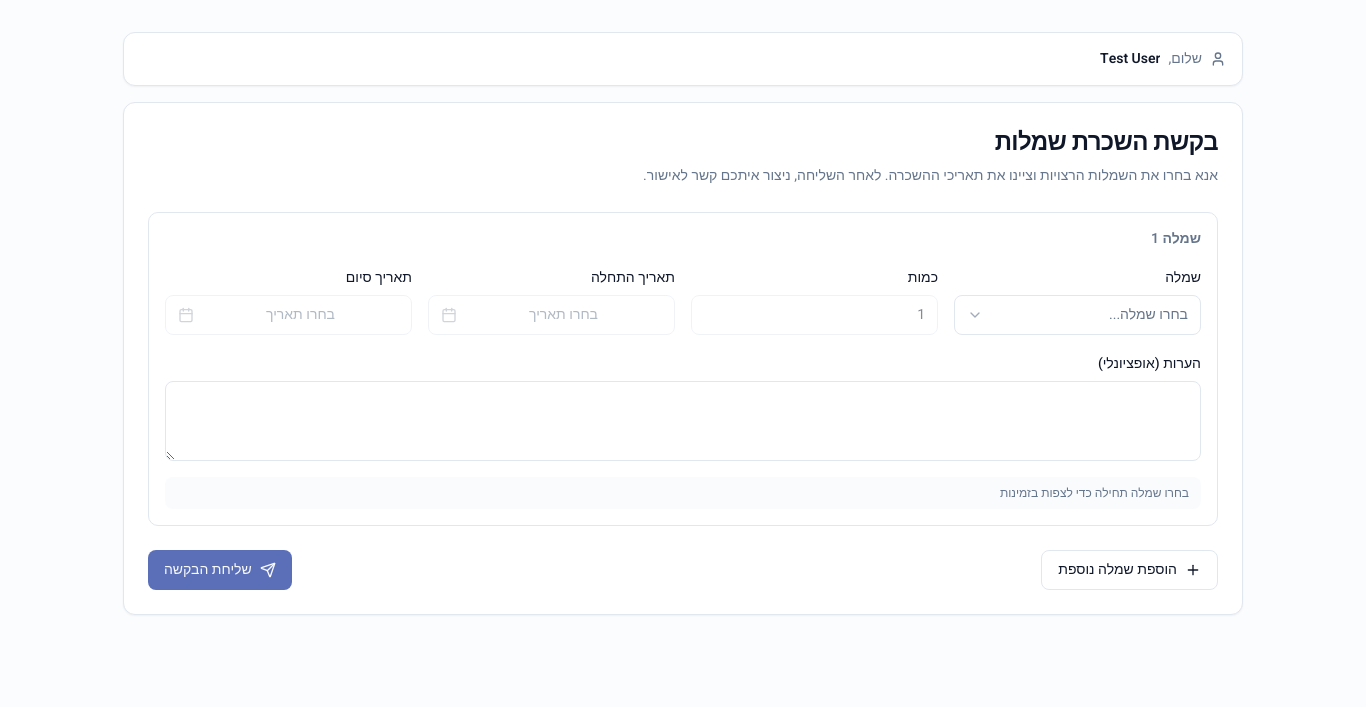
Scenario: RequestPage › does not refetch reservations when the same dress is picked in two rows
Click the button labelled "בחרו שמלה..." at (1078, 315), box [954, 295, 1201, 335]
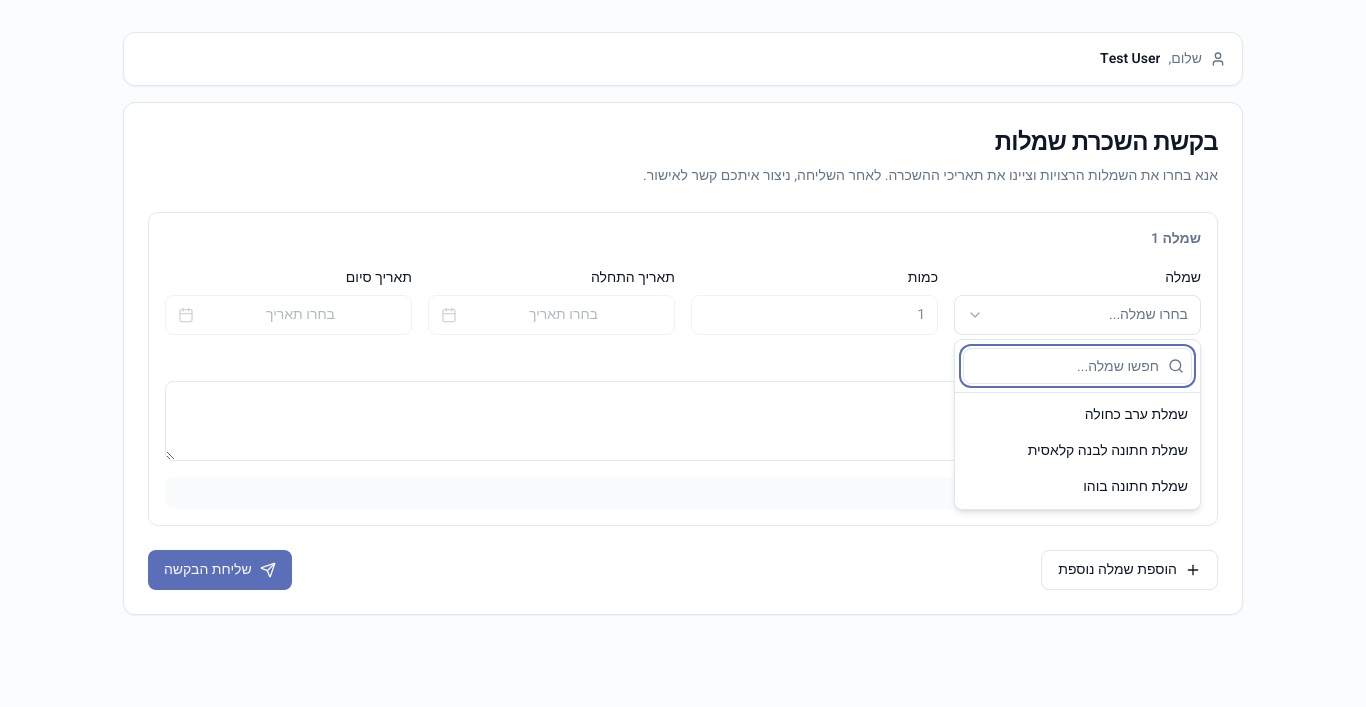
Click the option "שמלת ערב כחולה" at (1078, 415), box [959, 397, 1196, 433]
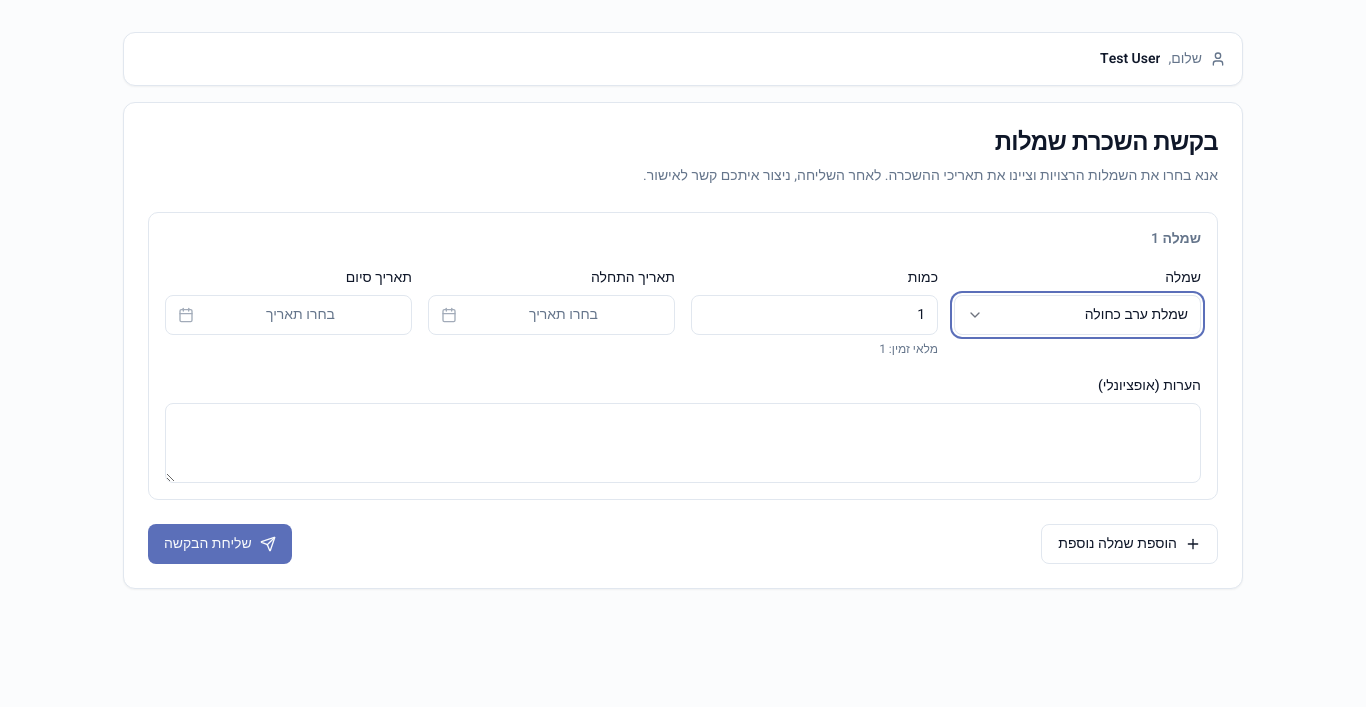
Click the button "הוספת שמלה נוספת" at (1130, 544), box [1041, 524, 1218, 564]
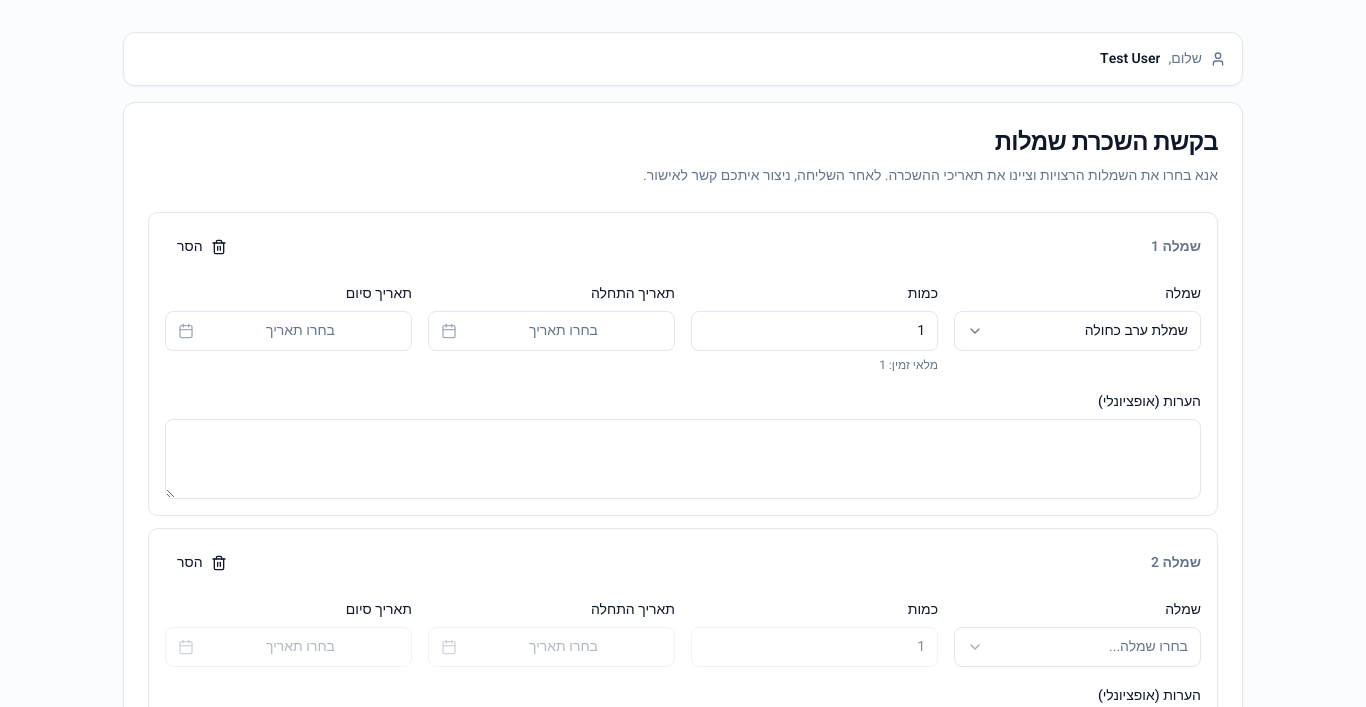
Click the button labelled "בחרו שמלה..." at (1078, 647), box [954, 627, 1201, 667]
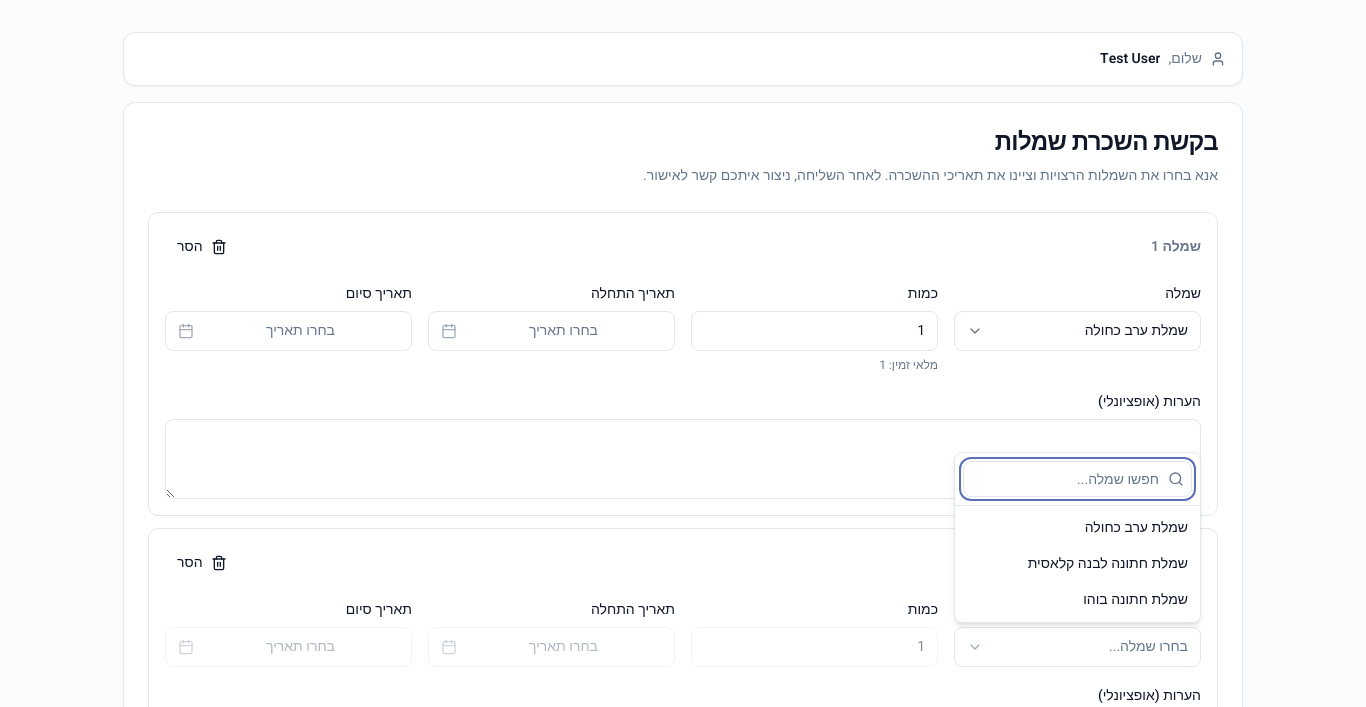
Click the option "שמלת ערב כחולה" at (1078, 528), box [959, 510, 1196, 546]
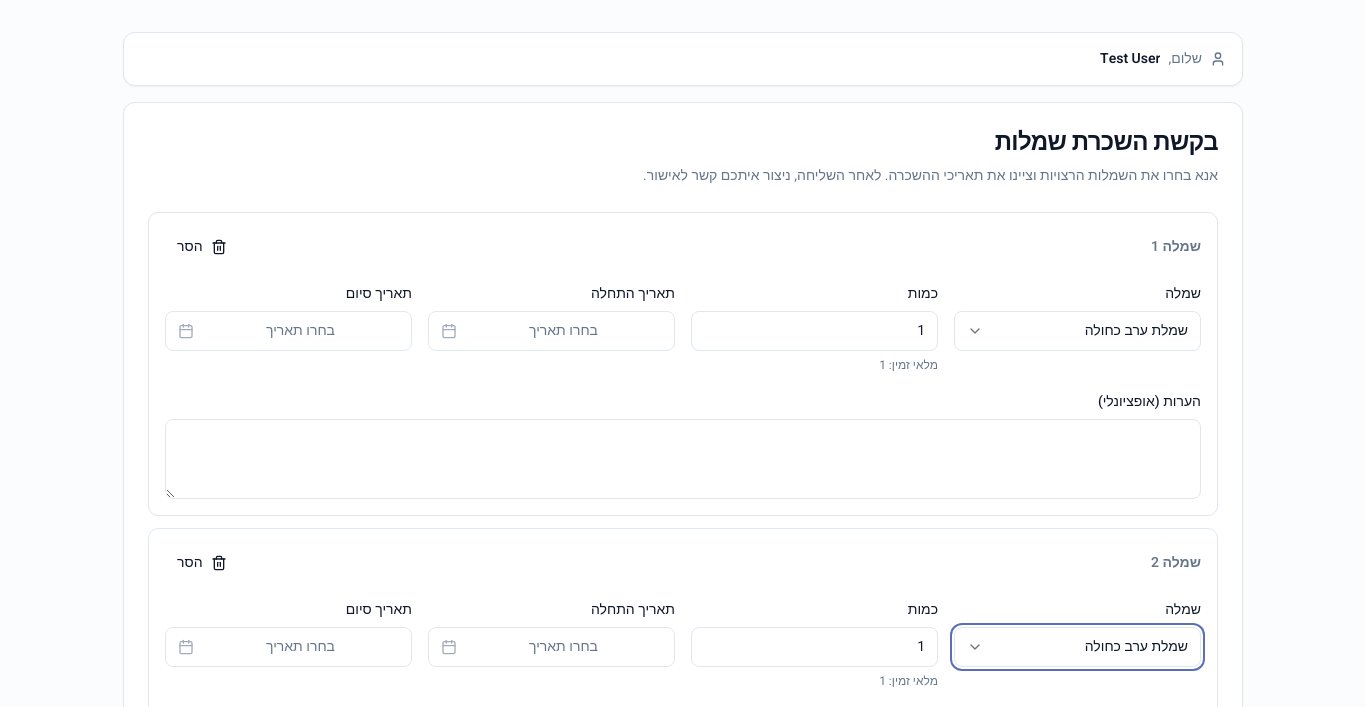
Check: the button named "שמלה" reads "שמלת ערב כחולה", box [954, 627, 1201, 667]
